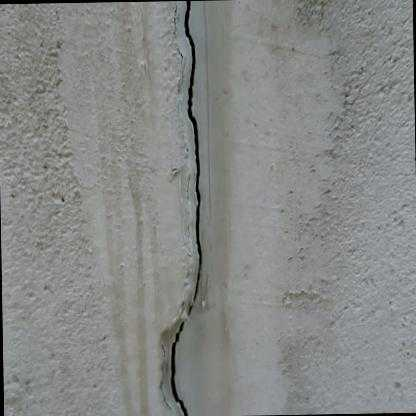crack: (170, 0, 202, 416)
